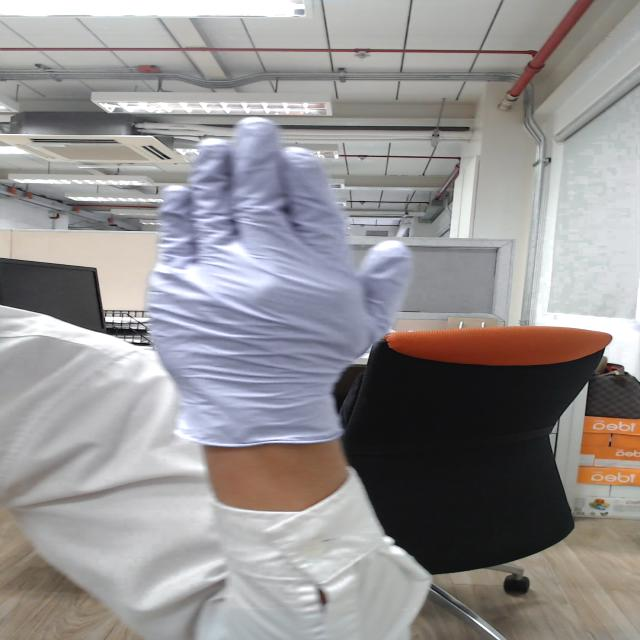glove: (59, 114, 443, 428)
